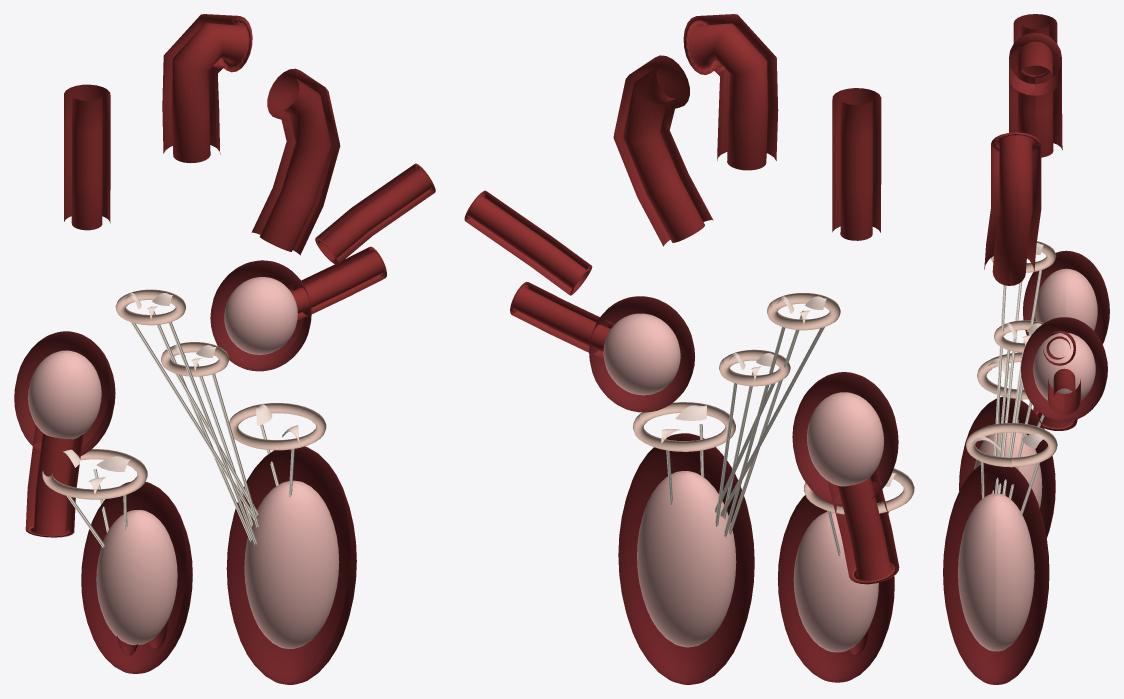
Rendered from heart_segmented_tricuspid_leaky.glb.
3 views of the same model, side by side, from view 1: azimuth 30°, elevation 25°; view 2: azimuth 150°, elevation 25°; view 3: azimuth 270°, elevation 25° (orthographic). The views are drawn at different scales.
Visible parts, largest first — view 1: WallLV, WallRV, PulmonaryTrunk, WallRA, Aorta, WallLA, SVC, PulmonaryVeinL, IVC, PulmonaryVeinR, AnnulusMitral, AnnulusTricuspid (+6 smaller); view 2: WallLV, WallRV, PulmonaryTrunk, WallRA, Aorta, WallLA, SVC, PulmonaryVeinL, IVC, PulmonaryVeinR, AnnulusMitral, AnnulusAortic (+5 smaller); view 3: WallLV, PulmonaryTrunk, WallLA, Aorta, WallRA, WallRV, AnnulusMitral, PulmonaryVeinR, SVC, AnnulusTricuspid, AnnulusPulmonary, ChordaeAortic2 (+7 smaller).
Boxes of the visible parts, left/top/right/bottom form: WallLV: left=226, top=446, right=356, bottom=684; WallRV: left=81, top=482, right=192, bottom=673; PulmonaryTrunk: left=251, top=68, right=340, bottom=255; WallRA: left=14, top=331, right=115, bottom=456; Aorta: left=162, top=14, right=252, bottom=163; WallLA: left=210, top=260, right=311, bottom=371; SVC: left=64, top=84, right=110, bottom=230; PulmonaryVeinL: left=315, top=163, right=435, bottom=264; IVC: left=25, top=425, right=83, bottom=537; PulmonaryVeinR: left=287, top=246, right=386, bottom=320; AnnulusMitral: left=229, top=403, right=326, bottom=450; AnnulusTricuspid: left=42, top=449, right=147, bottom=499; WallLV: left=618, top=433, right=754, bottom=684; WallRV: left=777, top=495, right=894, bottom=682; PulmonaryTrunk: left=613, top=55, right=713, bottom=246; WallRA: left=792, top=372, right=898, bottom=506; Aorta: left=683, top=14, right=778, bottom=170; WallLA: left=589, top=296, right=694, bottom=412; SVC: left=832, top=88, right=881, bottom=240; PulmonaryVeinL: left=464, top=190, right=592, bottom=295; IVC: left=828, top=468, right=899, bottom=584; PulmonaryVeinR: left=510, top=281, right=614, bottom=358; AnnulusMitral: left=633, top=402, right=735, bottom=451; AnnulusAortic: left=767, top=293, right=840, bottom=330; WallLV: left=943, top=463, right=1049, bottom=684; PulmonaryTrunk: left=984, top=132, right=1041, bottom=285; WallLA: left=1021, top=317, right=1107, bottom=421; Aorta: left=1009, top=32, right=1062, bottom=157; WallRA: left=1023, top=250, right=1109, bottom=343; WallRV: left=959, top=397, right=1055, bottom=537; AnnulusMitral: left=966, top=423, right=1057, bottom=467; PulmonaryVeinR: left=1048, top=368, right=1080, bottom=415; SVC: left=1013, top=14, right=1057, bottom=43; AnnulusTricuspid: left=977, top=352, right=1028, bottom=399; AnnulusPulmonary: left=994, top=320, right=1043, bottom=352; ChordaeAortic2: left=998, top=281, right=1022, bottom=493.
Size of the model in its own units: 0.0906 by 0.1416 by 0.0345.
Materials: 9 (3 with a texture image).
